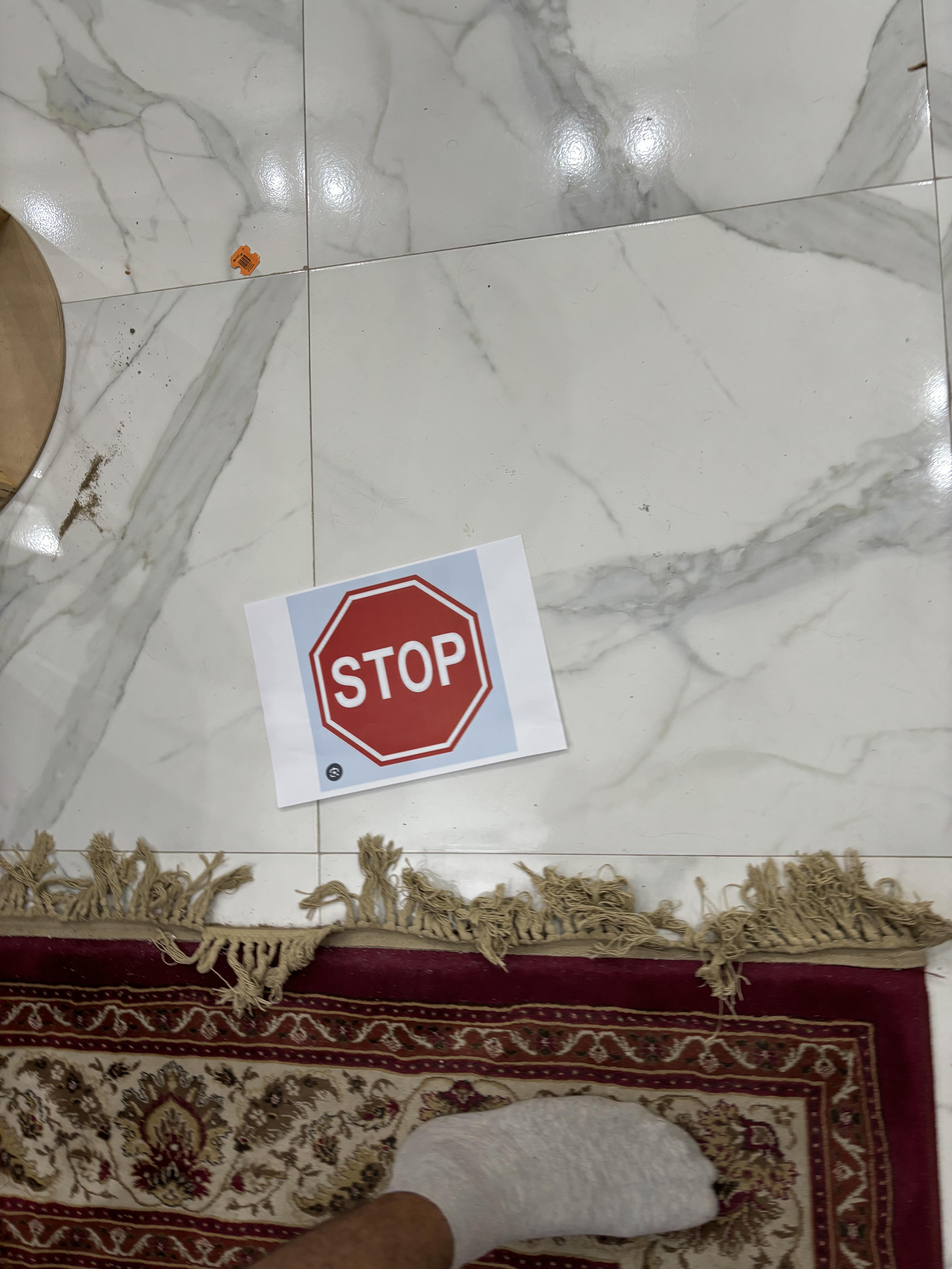Stop: (309, 567, 500, 776)
